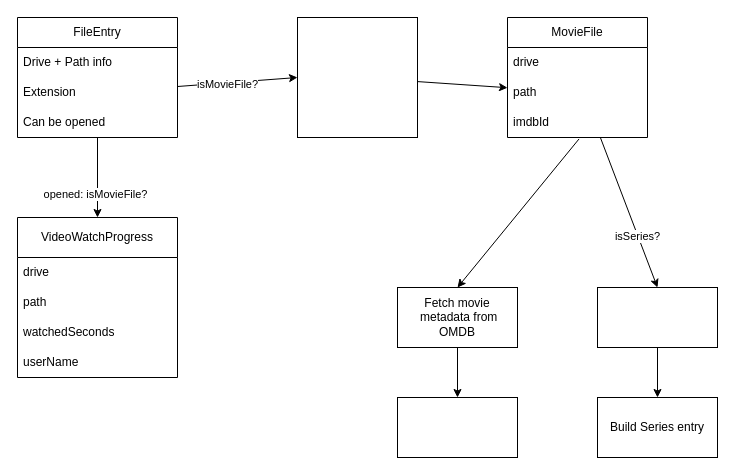
The diagram is 735 pixels wide and 475 high, and some of its shapes have lost their labels. Here are the shapes that lost their labels. From the top down, the centre of each, then its label:
the point at 357,77: Extract imdb id from .nfo / OMDB
the point at 657,317: Fetch series metadata from OMDB
the point at 457,427: Build Movie entry
